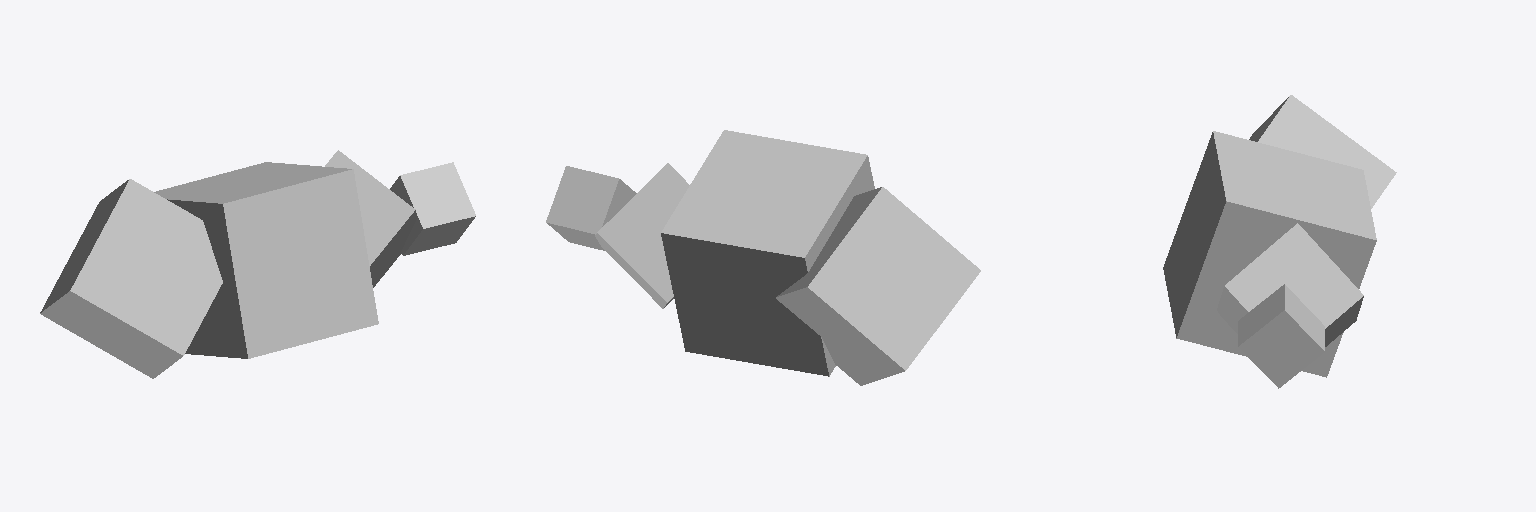
File: cloud1.obj
The picture shows the model from 3 angles: view 1: azimuth 30°, elevation 25°; view 2: azimuth 150°, elevation 25°; view 3: azimuth 270°, elevation 25°; orthographic projection.
Parts seen in each view (by area): view 1: Cube.003_Cube.004; view 2: Cube.003_Cube.004; view 3: Cube.003_Cube.004.
Boxes of the visible parts, <box> form: Cube.003_Cube.004: <box>40,150,475,378</box>; Cube.003_Cube.004: <box>546,130,980,385</box>; Cube.003_Cube.004: <box>1163,95,1396,388</box>.
Size of the model in its own units: 6.98 by 3.44 by 3.54.